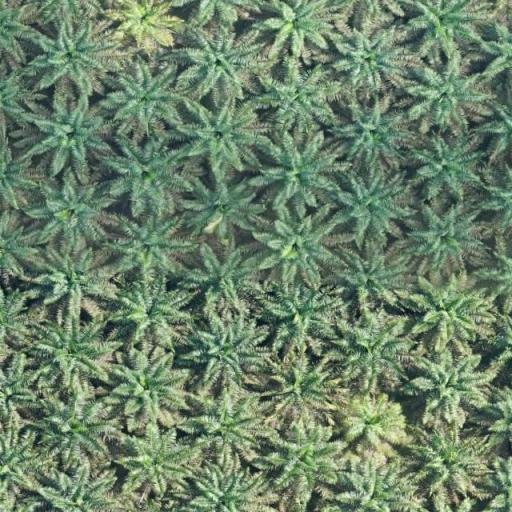Ganoderma: (122, 0, 162, 37)
